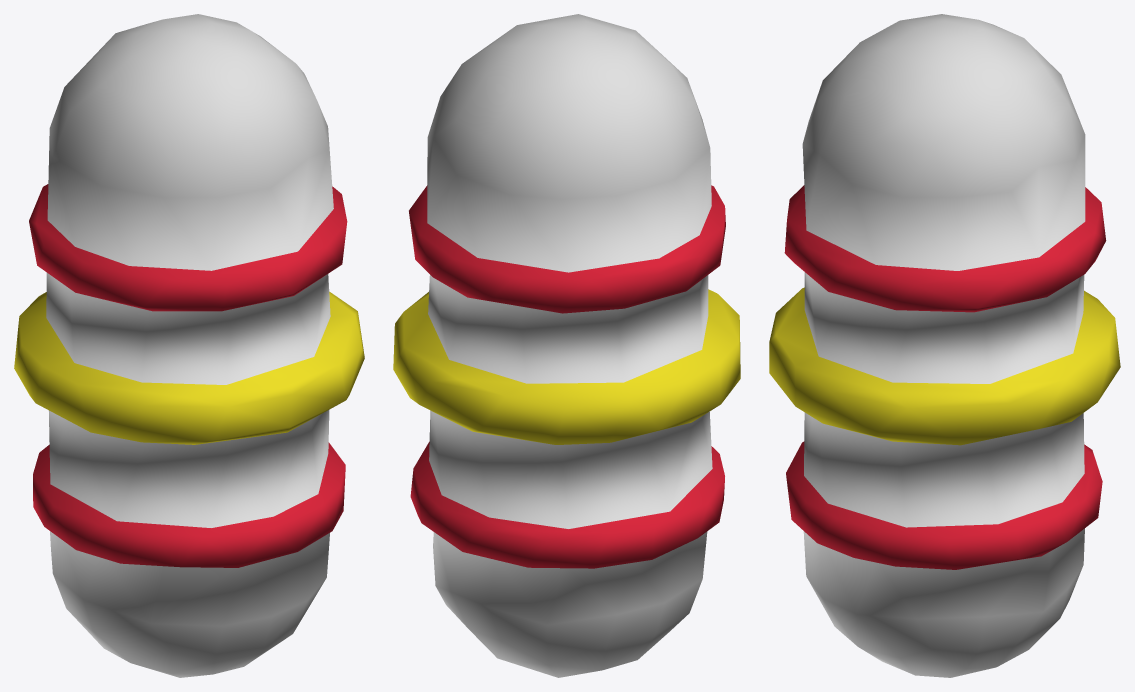
The model's file is BMBWaterContainerV1.fbx.
The picture shows the model from 3 angles, left to right: view 1: azimuth 30°, elevation 25°; view 2: azimuth 150°, elevation 25°; view 3: azimuth 270°, elevation 25°; orthographic projection.
Parts seen in each view (by area): view 1: Water Container; view 2: Water Container; view 3: Water Container.
Boxes of the visible parts, left/top/right/bottom form: Water Container: left=14, top=14, right=364, bottom=677; Water Container: left=393, top=14, right=740, bottom=677; Water Container: left=769, top=14, right=1120, bottom=677.
Bounding box in the file's own units: 246 × 493 × 247.
